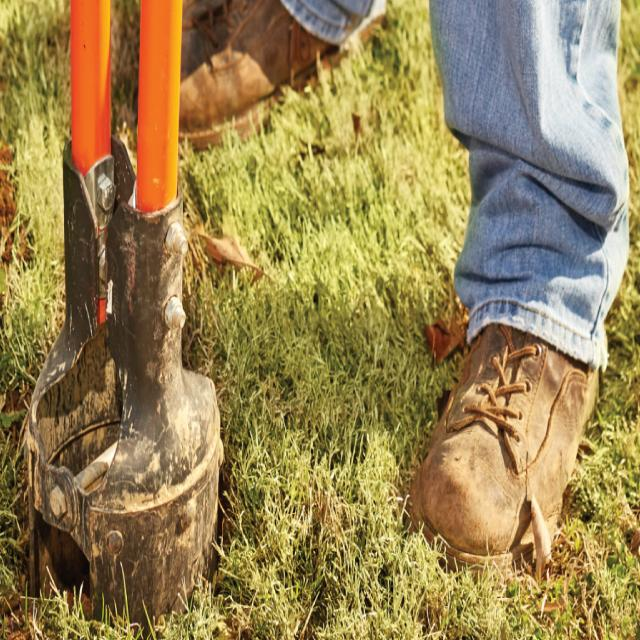shoes: (392, 306, 620, 593), (136, 18, 350, 140)
